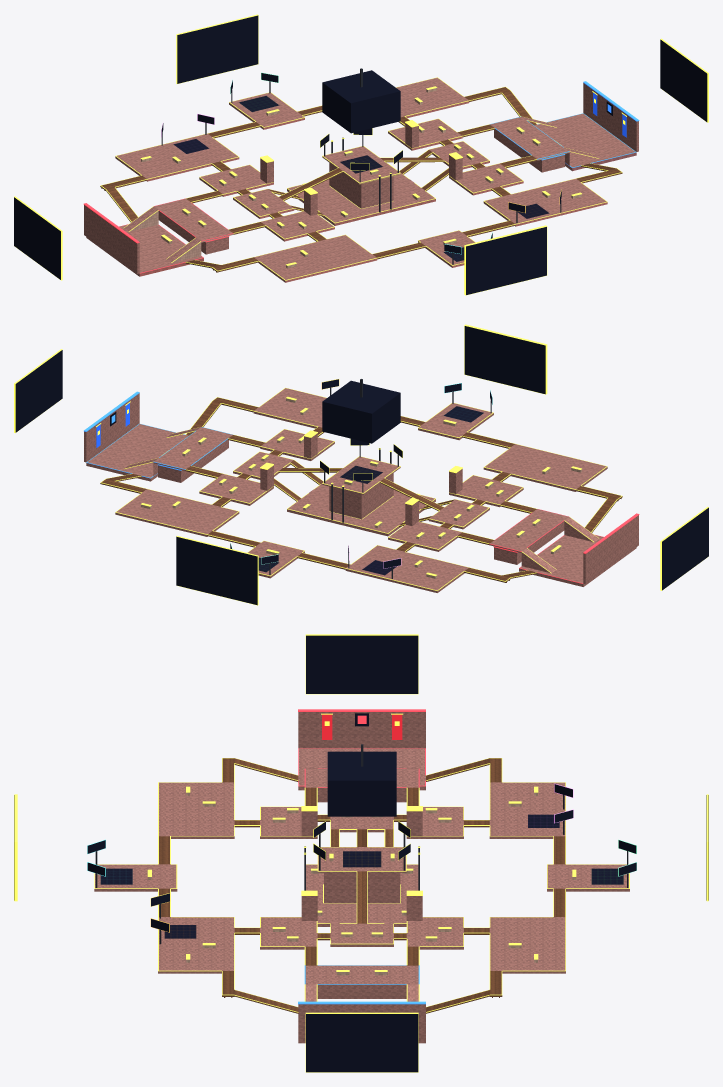
File: skyreach_map_v10.glb
The picture shows the model from 3 angles, top to bottom: view 1: azimuth 30°, elevation 25°; view 2: azimuth 150°, elevation 25°; view 3: azimuth 270°, elevation 25°; orthographic projection. The views are drawn at different scales.
Parts seen in each view (by area): view 1: skyreach_map_v10; view 2: skyreach_map_v10; view 3: skyreach_map_v10.
Boxes of the visible parts, x1,y1,x2,y2 form: skyreach_map_v10: (14, 14, 708, 295); skyreach_map_v10: (14, 324, 708, 605); skyreach_map_v10: (14, 634, 708, 1072).
Bounding box in the file's own units: 282 × 53.02 × 218.
Materials: 27 (15 with a texture image).
